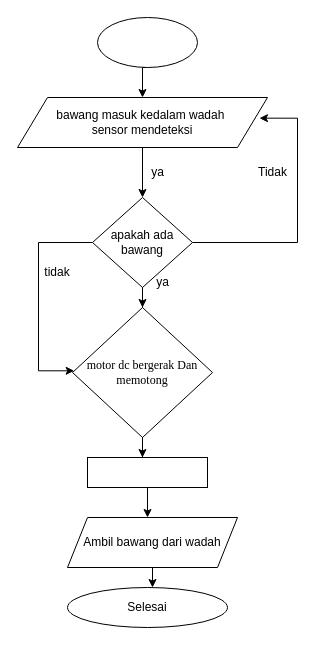
This 323x645 diagram has some shape labels left out. Each missing label, with the centre of its shape:
mulai: point 147,42
Proses pemotongan bawang: point 147,472
